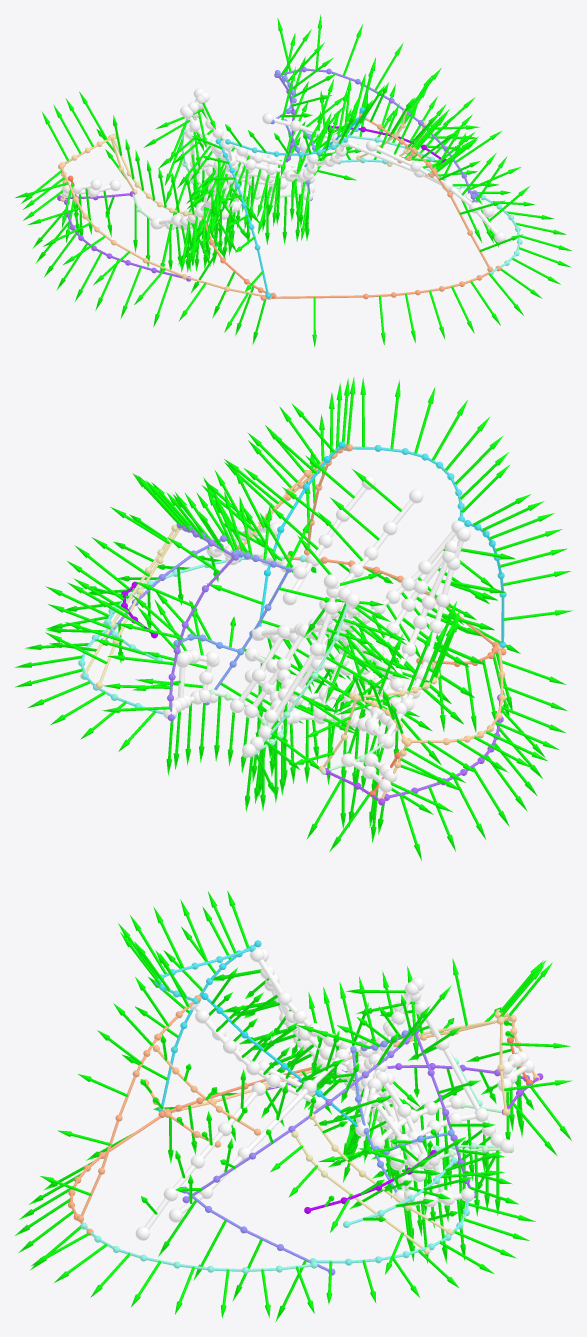
File: author1_building.gltf
The picture shows the model from 3 angles, top to bottom: view 1: azimuth 30°, elevation 25°; view 2: azimuth 150°, elevation 25°; view 3: azimuth 270°, elevation 25°; orthographic projection. The views are drawn at different scales.
Size of the model in its own units: 0.8769 by 0.4621 by 0.7857.
